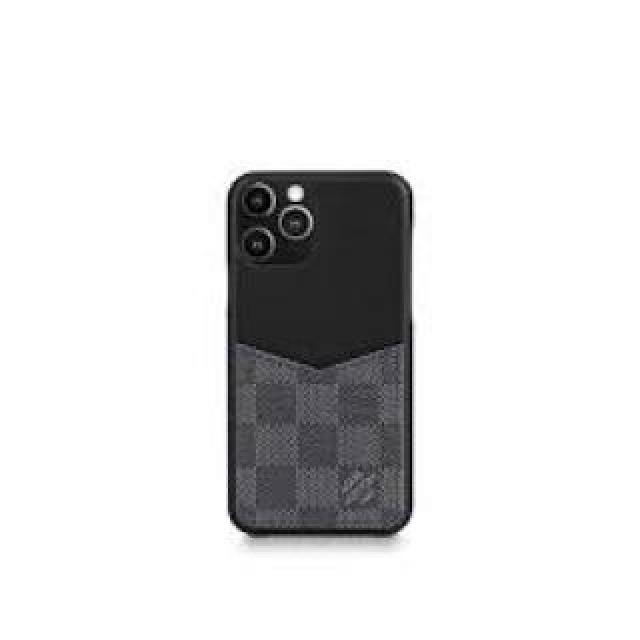smart phone: (208, 127, 424, 548)
